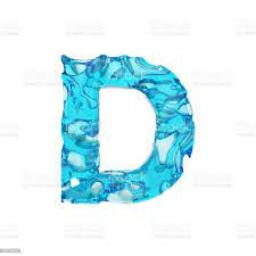d: (56, 52, 200, 206)
